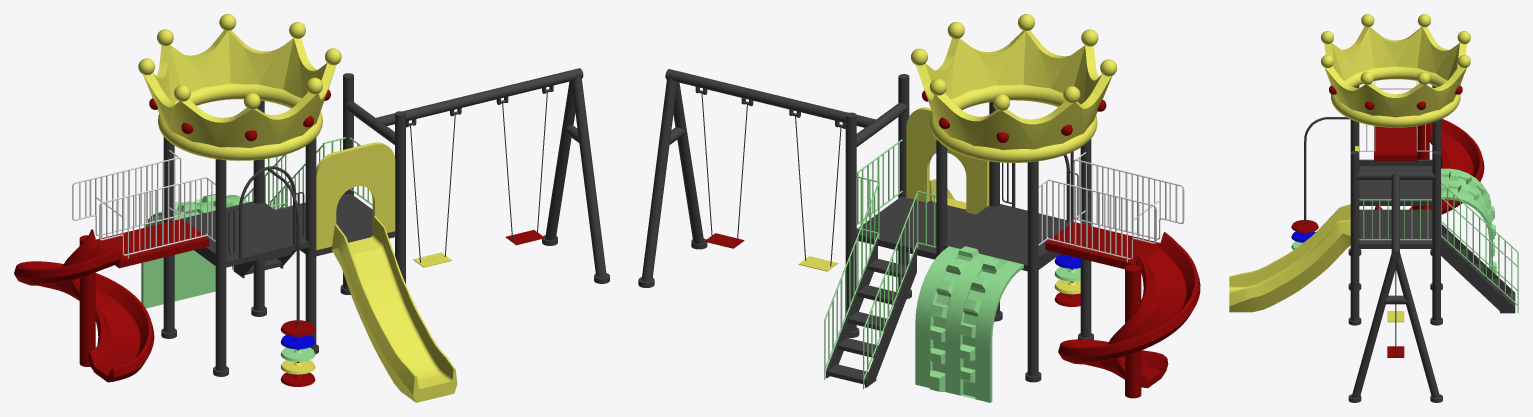
The model's file is Playground set.fbx.
3 renders of one model, left to right at view 1: azimuth 30°, elevation 25°; view 2: azimuth 150°, elevation 25°; view 3: azimuth 270°, elevation 25°, orthographic. The views are drawn at different scales.
Visible parts, largest first — view 1: Pilares, Corona, Resbaladilla_2, Plataformas, Resbaladilla, Boca, Barandales_2, Barandales_3, Muro_Para_Escalar, Barandales_1; view 2: Pilares, Corona, Plataformas, Muro_Para_Escalar, Resbaladilla, Barandales_1, Barandales_2, Boca, Barandales_3; view 3: Corona, Plataformas, Pilares, Resbaladilla_2, Barandales_1, Resbaladilla, Muro_Para_Escalar, Barandales_3, Barandales_2.
Part boxes in pixels (left/top/right/bottom): Pilares: left=161, top=68, right=609, bottom=376; Corona: left=138, top=14, right=341, bottom=160; Resbaladilla_2: left=331, top=216, right=457, bottom=402; Plataformas: left=96, top=193, right=395, bottom=278; Resbaladilla: left=14, top=229, right=154, bottom=382; Boca: left=316, top=142, right=395, bottom=250; Barandales_2: left=72, top=150, right=215, bottom=258; Barandales_3: left=228, top=166, right=315, bottom=386; Muro_Para_Escalar: left=141, top=194, right=248, bottom=308; Barandales_1: left=232, top=137, right=372, bottom=269; Pilares: left=638, top=69, right=1093, bottom=382; Corona: left=911, top=14, right=1117, bottom=162; Plataformas: left=826, top=196, right=1160, bottom=387; Muro_Para_Escalar: left=915, top=246, right=1023, bottom=402; Resbaladilla: left=1058, top=232, right=1200, bottom=398; Barandales_1: left=824, top=139, right=936, bottom=389; Barandales_2: left=1038, top=152, right=1184, bottom=262; Boca: left=906, top=107, right=989, bottom=214; Barandales_3: left=1002, top=151, right=1080, bottom=306; Corona: left=1321, top=14, right=1470, bottom=127; Plataformas: left=1359, top=126, right=1515, bottom=313; Pilares: left=1348, top=85, right=1442, bottom=402; Resbaladilla_2: left=1229, top=204, right=1350, bottom=312; Barandales_1: left=1359, top=182, right=1518, bottom=313; Resbaladilla: left=1374, top=118, right=1484, bottom=214; Muro_Para_Escalar: left=1441, top=168, right=1496, bottom=274; Barandales_3: left=1291, top=117, right=1349, bottom=249; Barandales_2: left=1359, top=81, right=1432, bottom=151.
Bounding box in the file's own units: 23.44 × 12.05 × 13.88.
